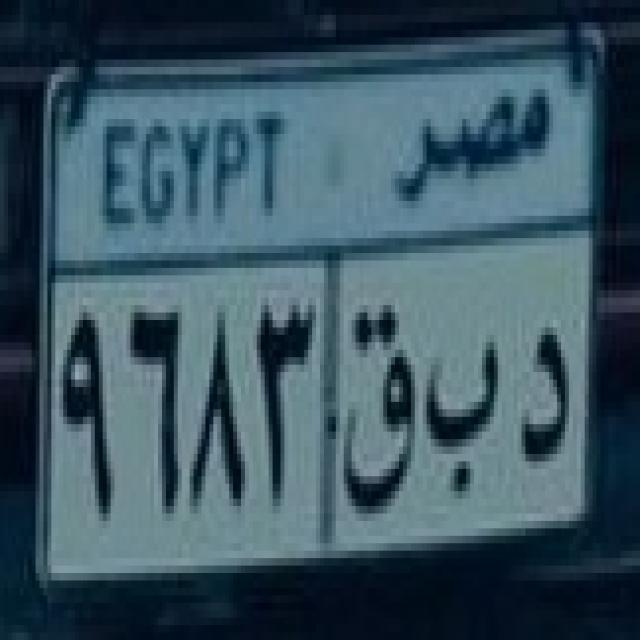3: (251, 294, 319, 522)
6: (122, 296, 190, 526)
8: (191, 300, 250, 518)
9: (60, 308, 119, 534)
Taa: (334, 300, 424, 530)
baa: (423, 312, 508, 515)
daal: (518, 312, 578, 479)
